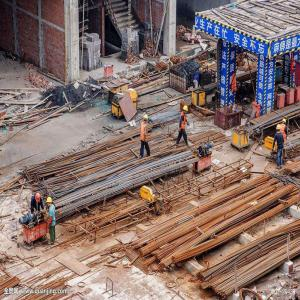red: (35, 192, 41, 205)
yellow: (46, 195, 53, 208), (143, 114, 149, 126), (183, 105, 189, 116), (277, 124, 283, 134), (282, 118, 288, 127)
